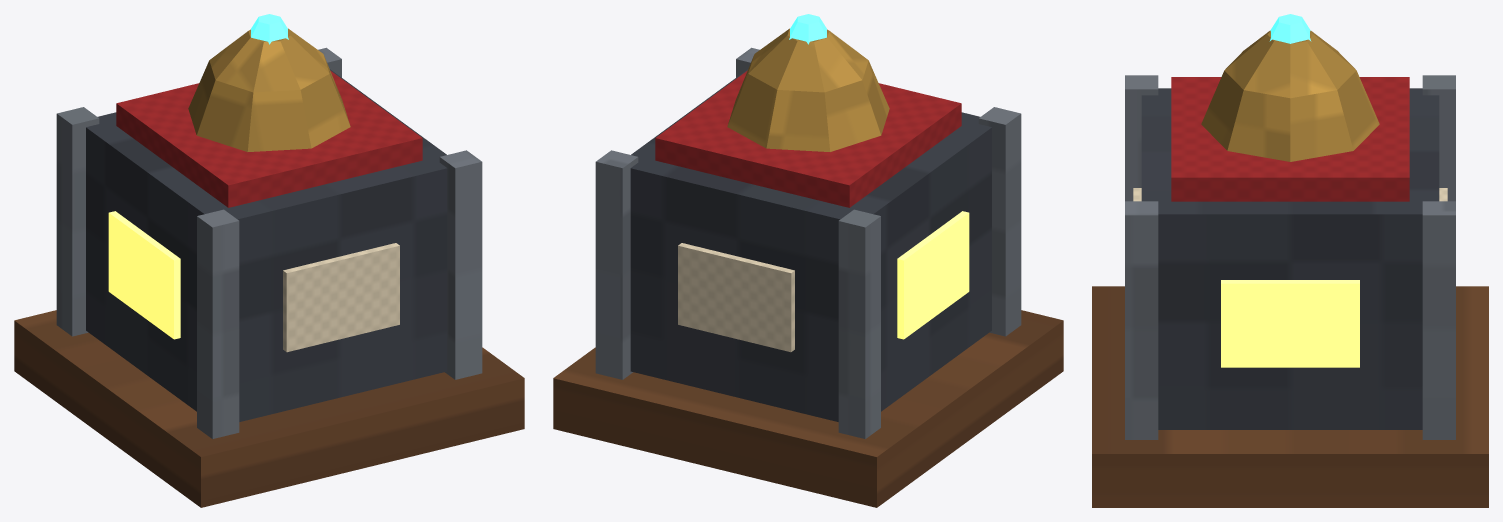
The model's file is SM_Prop_WeaponModule_HQ.glb.
3 renders of one model, left to right at view 1: azimuth 30°, elevation 25°; view 2: azimuth 150°, elevation 25°; view 3: azimuth 270°, elevation 25°, orthographic. The views are drawn at different scales.
Visible parts, largest first — view 1: SM_Prop_WeaponModule_HQ; view 2: SM_Prop_WeaponModule_HQ; view 3: SM_Prop_WeaponModule_HQ.
Part boxes in pixels (<box>): SM_Prop_WeaponModule_HQ: <box>14,14,524,507</box>; SM_Prop_WeaponModule_HQ: <box>553,14,1063,507</box>; SM_Prop_WeaponModule_HQ: <box>1092,14,1488,507</box>.
Bounding box in the file's own units: 1.2 × 1.35 × 1.2.
1 material, 1 textured.
